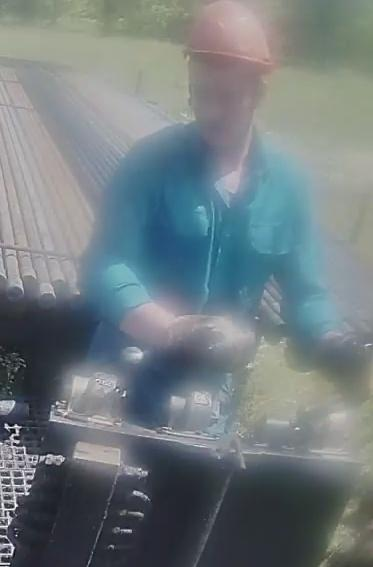gloves: (165, 302, 258, 379), (321, 320, 373, 403)
helmet: (177, 0, 282, 70)
vest: (97, 128, 288, 374)
